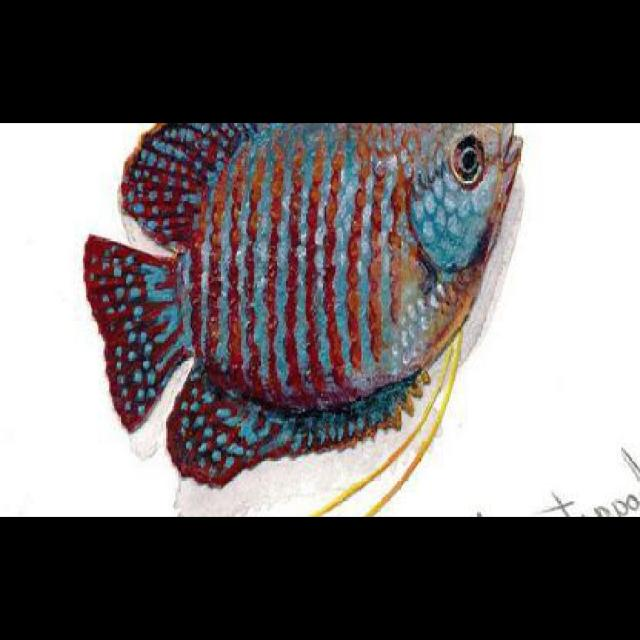Gourami: (80, 122, 523, 476)
